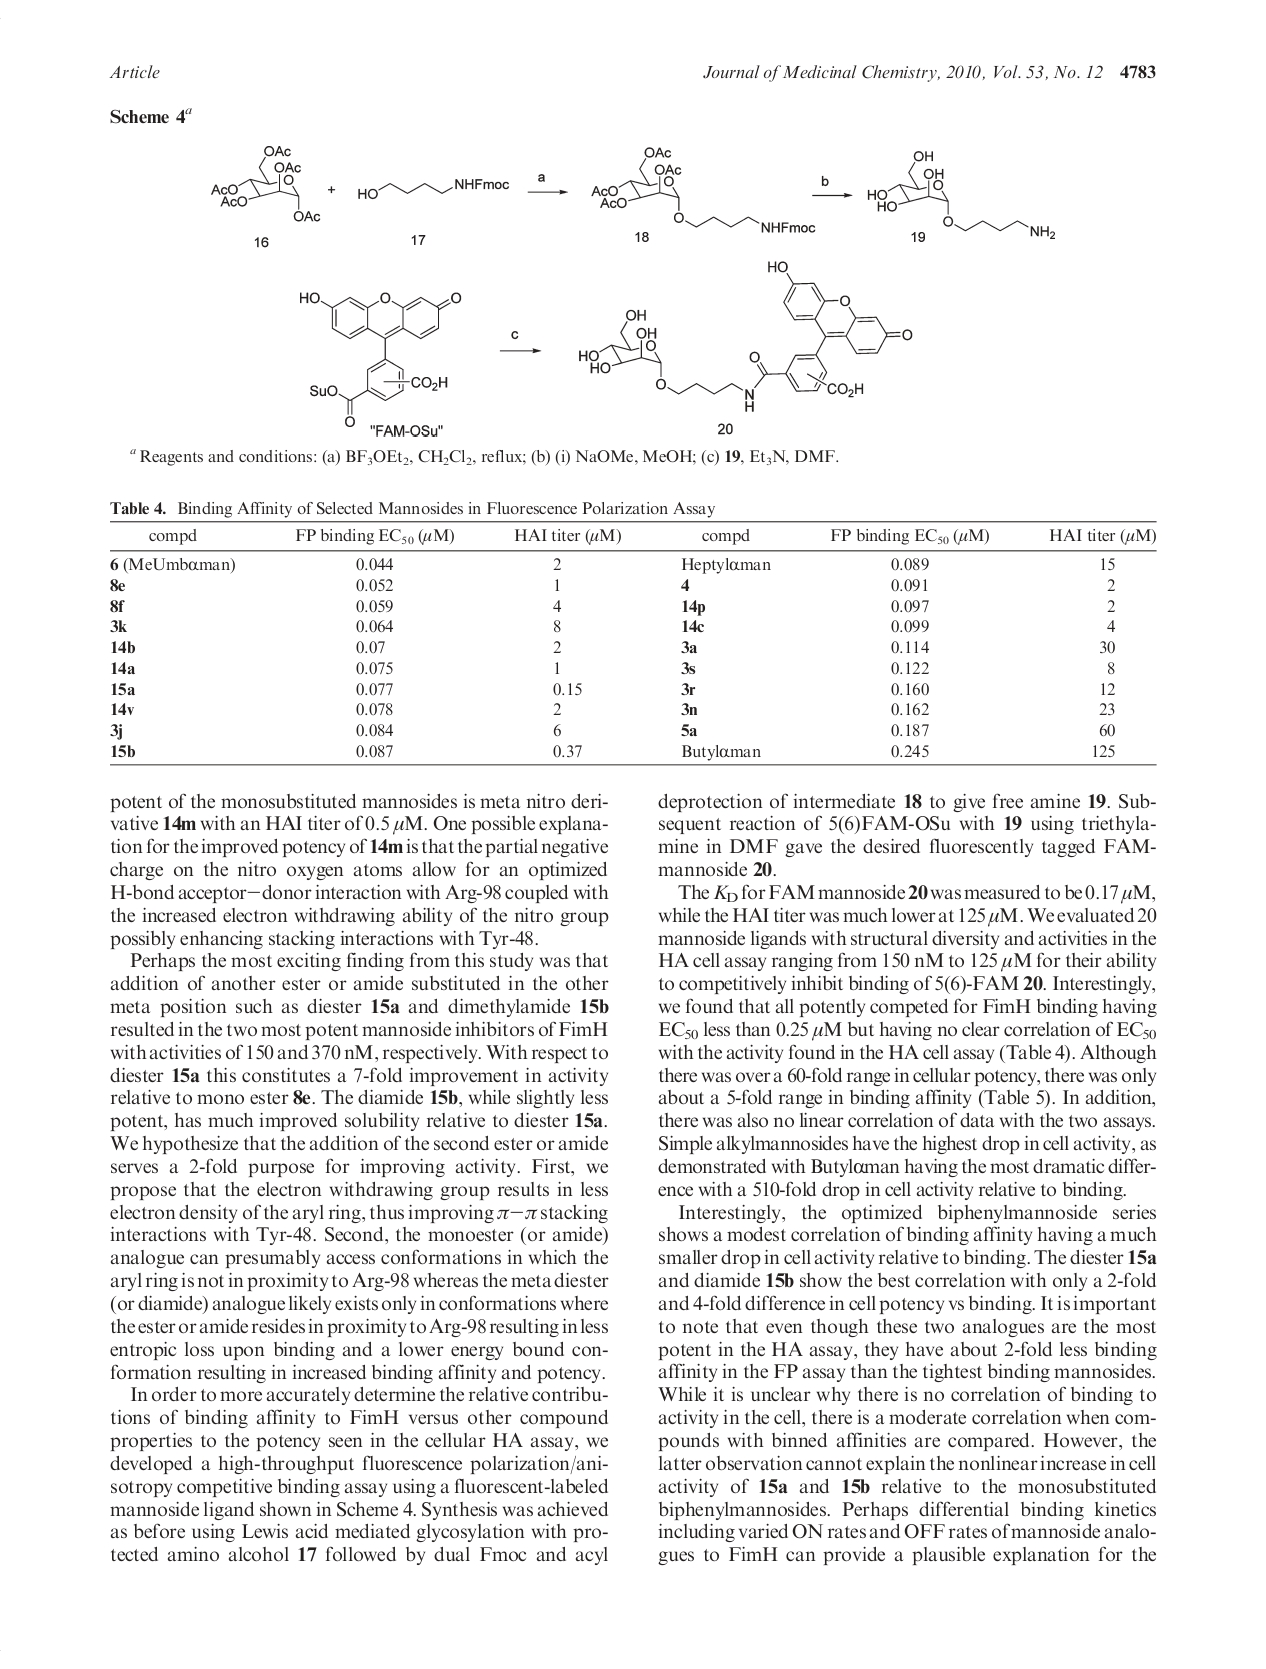exist_molecular: (577, 257, 914, 412), (295, 285, 464, 430), (589, 146, 818, 235), (866, 152, 1059, 243), (206, 144, 323, 226), (356, 174, 511, 203)
